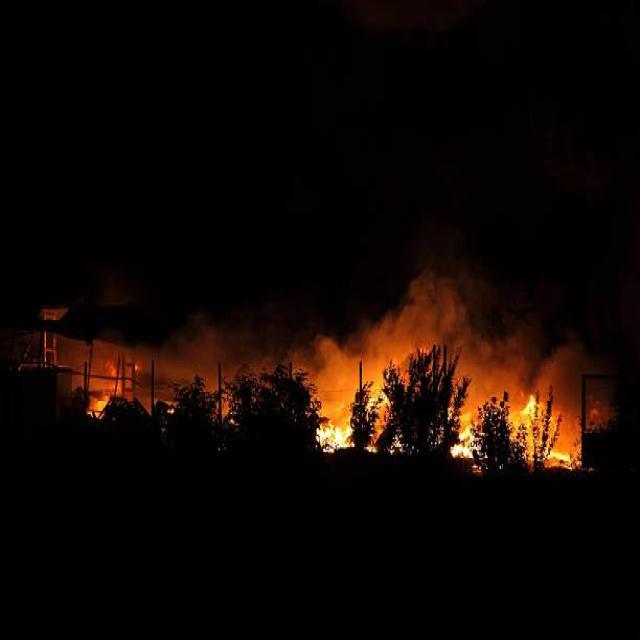Fire: (520, 390, 585, 480), (308, 376, 358, 459), (84, 355, 140, 415), (447, 410, 485, 458)
Smoke: (304, 285, 594, 418), (153, 304, 319, 388)
